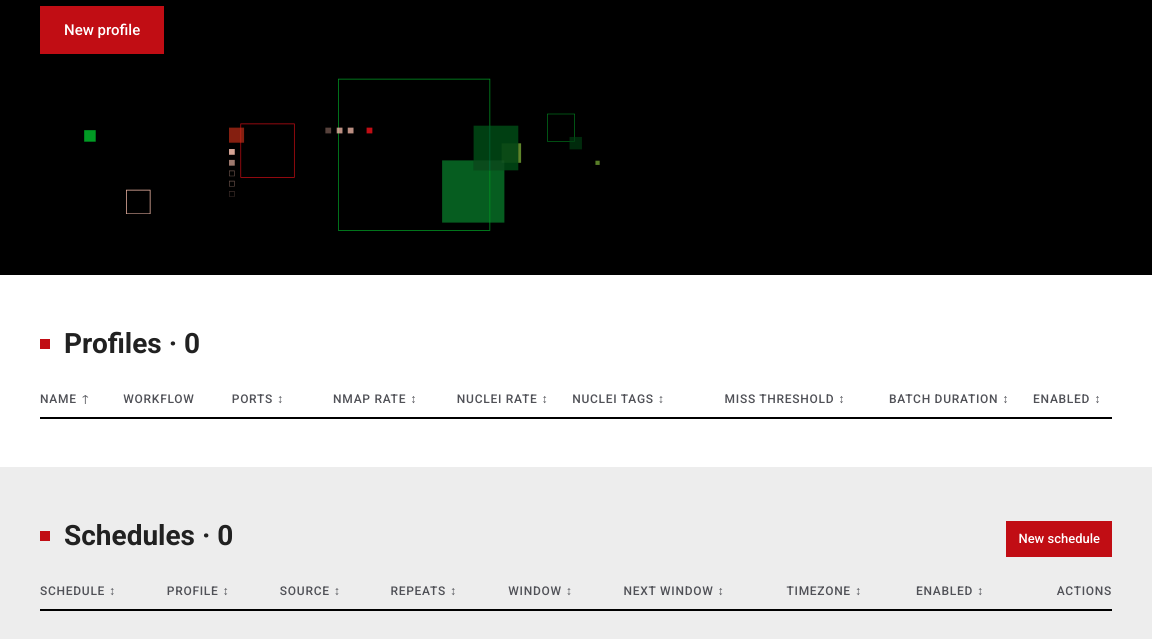
Test: ProfilesPage › rejects a half-set window client-side
(page scrolled)
Step 1. Click the button "New schedule" → x=1059, y=539, box [1006, 521, 1112, 557]
(page scrolled)
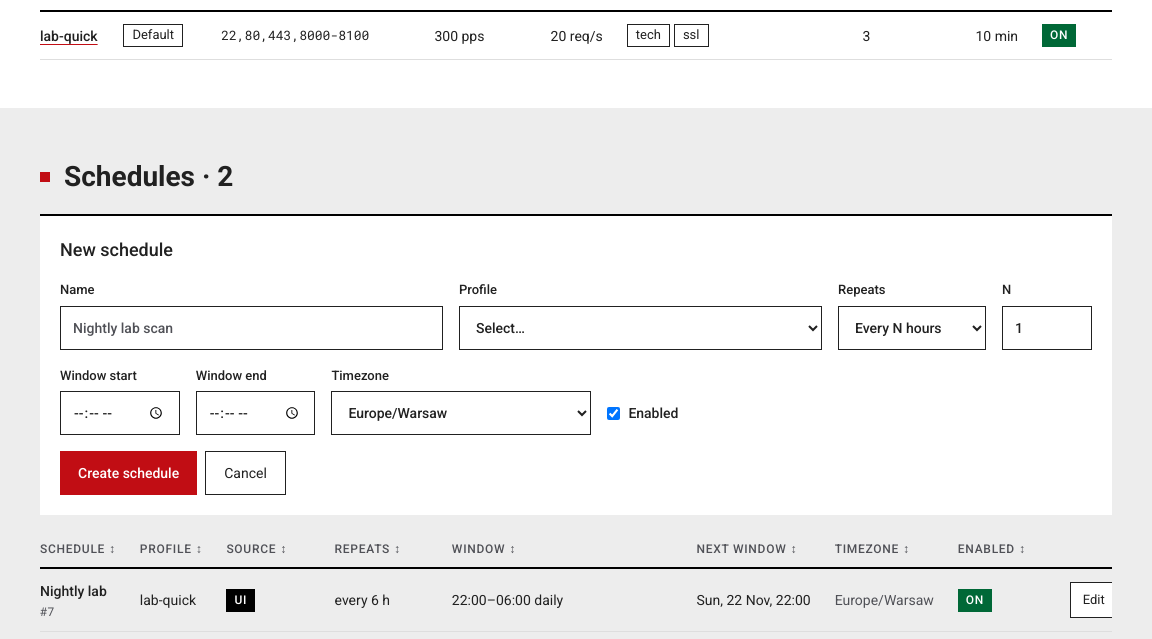
Step 2. Type "Overnight sweep" into the field labelled "Name" → x=252, y=328, box [60, 306, 443, 350]
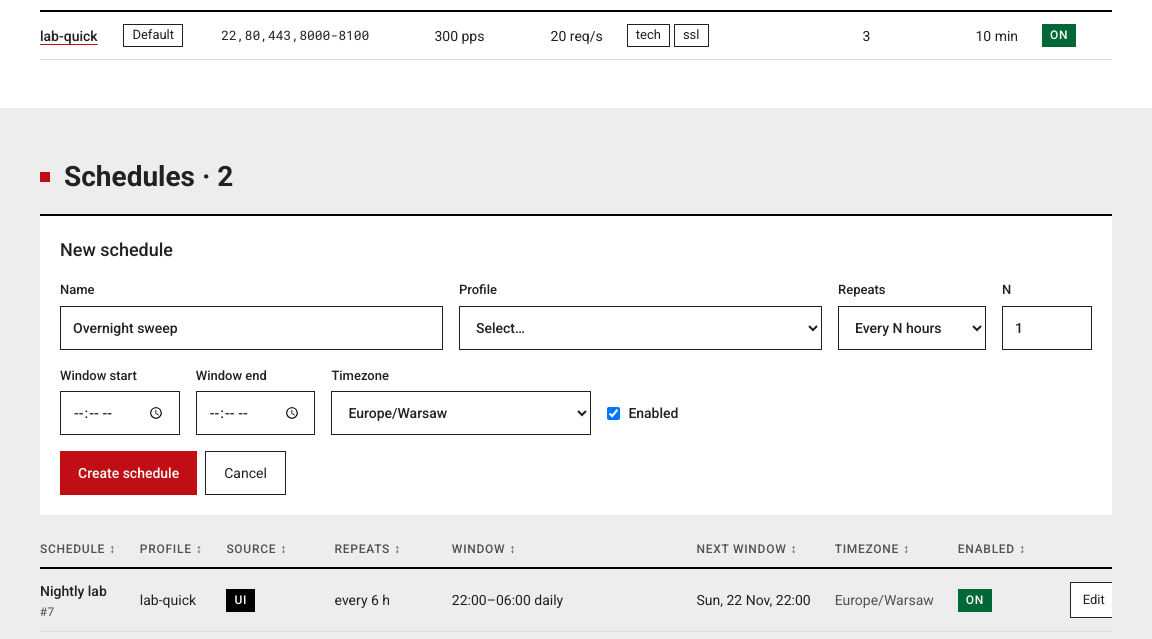
Step 3. Select "lab-quick" in the dropdown labelled "Profile" → x=640, y=328, box [459, 306, 822, 350]
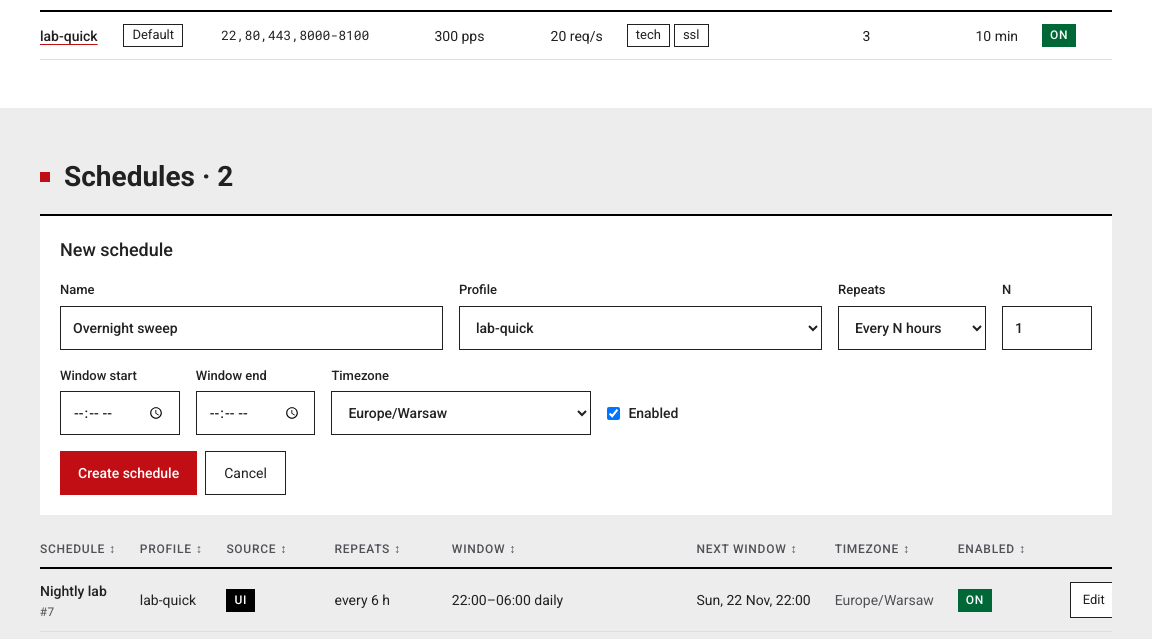
Step 4. Type "22:00" into the time field labelled "Window start" → x=120, y=413, box [60, 391, 180, 435]
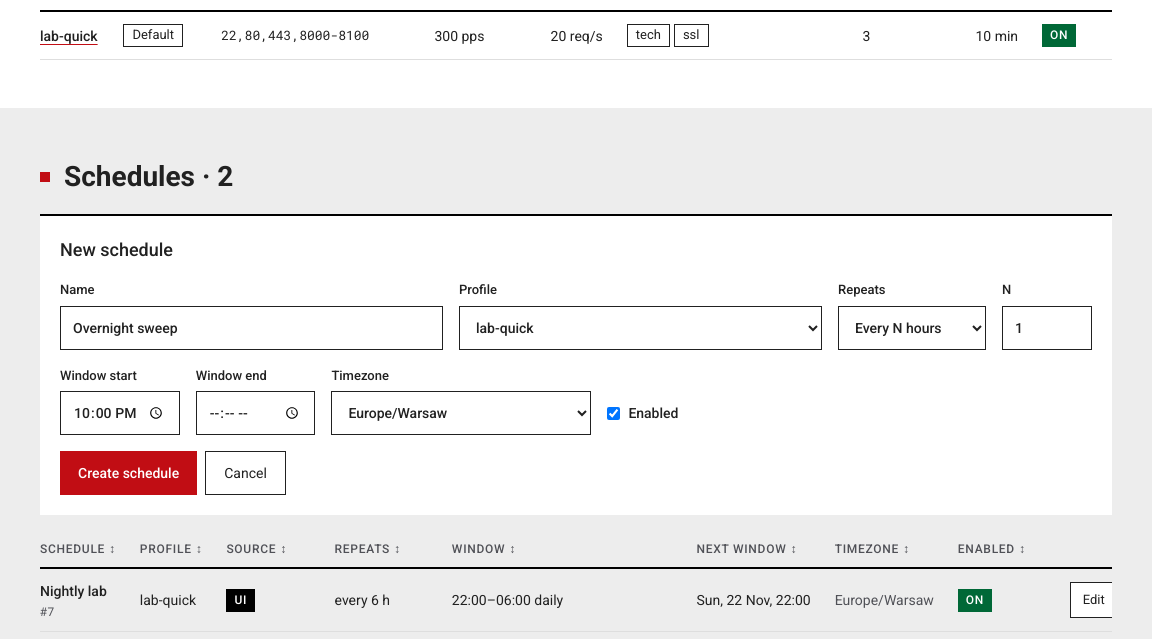
Step 5. Click the button "Create schedule" → x=129, y=473, box [60, 451, 197, 495]
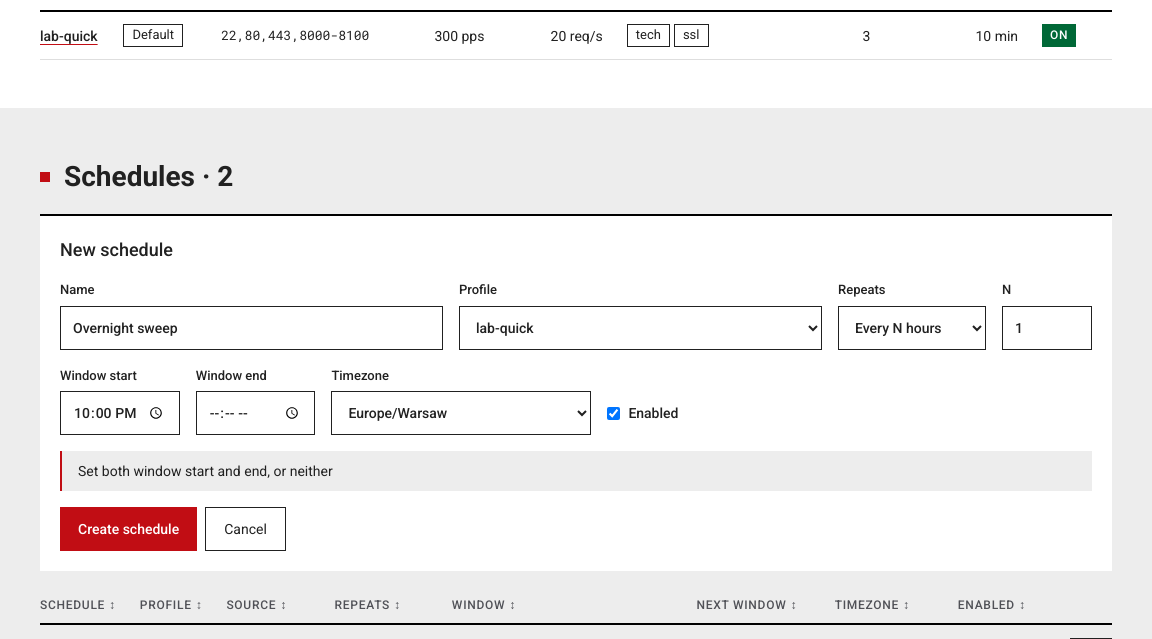
Expected: the message shows "Set both window start and end", [78, 463, 333, 479]
